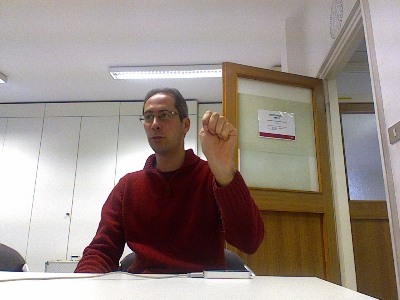石头: (198, 109, 238, 168)
